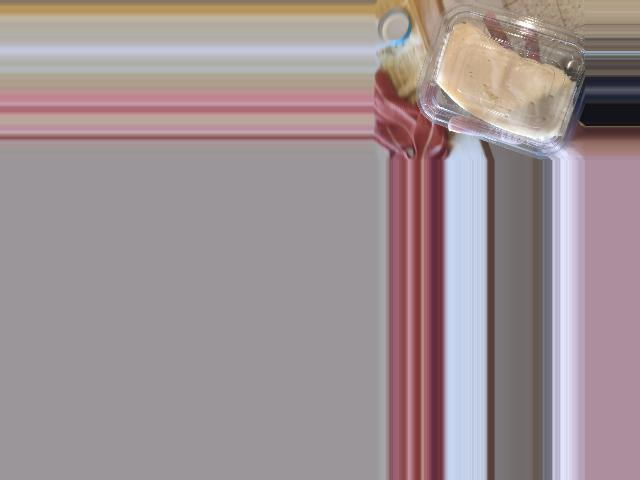cheese: (414, 9, 586, 148)
